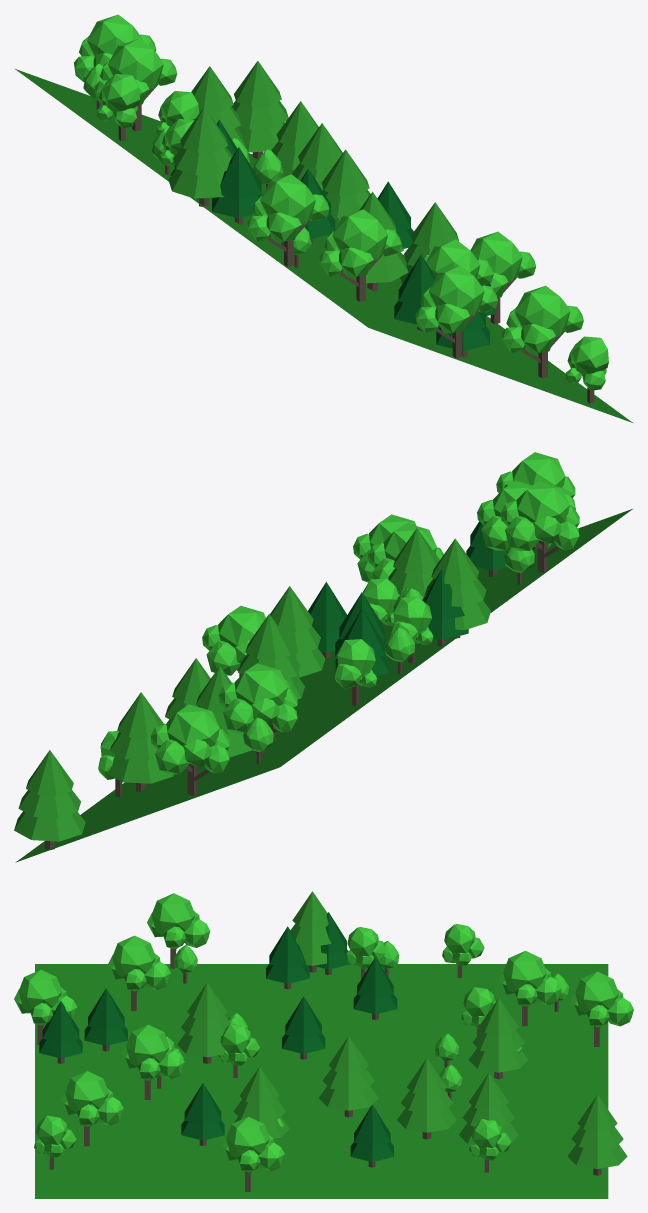
The model's file is _ackground.fbx.
3 views of the same model, one above another, from view 1: azimuth 30°, elevation 25°; view 2: azimuth 150°, elevation 25°; view 3: azimuth 270°, elevation 25° (orthographic). The views are drawn at different scales.
Visible parts, largest first — view 1: Plane, Sphere_12, Sphere_9, Sphere_21, Sphere_18, Sphere_3_2, Sphere_15, Sphere_24, Cone_2_14, Cone_2_9, Cone_2_2, Cone_2_11 (+25 smaller); view 2: Plane, Sphere_3_2, Sphere_12, Sphere_24, Cone_2_3, Sphere_9, Cone_2_9, Cone_2_2, Cone_1, Sphere_15, Cone_2_17, Cone_2_11 (+33 smaller); view 3: Plane, Sphere_21, Sphere_3_2, Sphere_9, Sphere_15, Sphere_6, Sphere_12, Sphere_18, Sphere_24, Cone_2_3, Cone_6, Cone_8 (+49 smaller).
Boxes of the visible parts, x1=… form: Plane: x1=15, y1=69, x2=633, y2=423; Sphere_12: x1=260, y1=174, x2=315, y2=225; Sphere_9: x1=428, y1=265, x2=484, y2=316; Sphere_21: x1=514, y1=285, x2=570, y2=336; Sphere_18: x1=332, y1=209, x2=387, y2=260; Sphere_3_2: x1=108, y1=38, x2=163, y2=89; Sphere_15: x1=470, y1=231, x2=522, y2=282; Sphere_24: x1=87, y1=14, x2=142, y2=56; Cone_2_14: x1=220, y1=147, x2=261, y2=199; Cone_2_9: x1=321, y1=149, x2=369, y2=195; Cone_2_2: x1=234, y1=61, x2=281, y2=106; Cone_2_11: x1=180, y1=107, x2=227, y2=152; Plane: x1=15, y1=509, x2=632, y2=862; Sphere_3_2: x1=234, y1=663, x2=287, y2=705; Sphere_12: x1=516, y1=481, x2=569, y2=523; Sphere_24: x1=166, y1=704, x2=219, y2=746; Cone_2_3: x1=14, y1=811, x2=85, y2=841; Sphere_9: x1=512, y1=452, x2=565, y2=487; Cone_2_9: x1=245, y1=614, x2=293, y2=659; Cone_2_2: x1=26, y1=750, x2=73, y2=795; Cone_1: x1=18, y1=790, x2=80, y2=818; Sphere_15: x1=218, y1=605, x2=265, y2=647; Cone_2_17: x1=393, y1=528, x2=439, y2=574; Cone_2_11: x1=431, y1=538, x2=478, y2=584; Plane: x1=35, y1=964, x2=608, y2=1198; Sphere_21: x1=65, y1=1071, x2=108, y2=1112; Sphere_3_2: x1=503, y1=951, x2=546, y2=992; Sphere_9: x1=18, y1=969, x2=62, y2=1011; Sphere_15: x1=226, y1=1116, x2=269, y2=1158; Sphere_6: x1=126, y1=1024, x2=169, y2=1066; Sphere_12: x1=151, y1=893, x2=195, y2=934; Sphere_18: x1=112, y1=935, x2=155, y2=977; Sphere_24: x1=575, y1=971, x2=618, y2=1013; Cone_2_3: x1=567, y1=1144, x2=627, y2=1168; Cone_6: x1=397, y1=1108, x2=456, y2=1132; Cone_8: x1=319, y1=1086, x2=378, y2=1110.
Size of the model in its own units: 2697 by 1980 by 5406.
